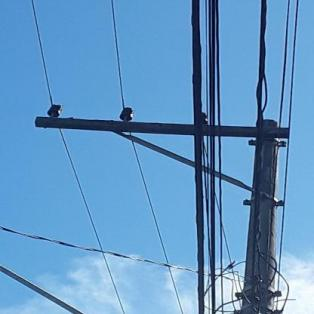Poste: (238, 115, 290, 314)
